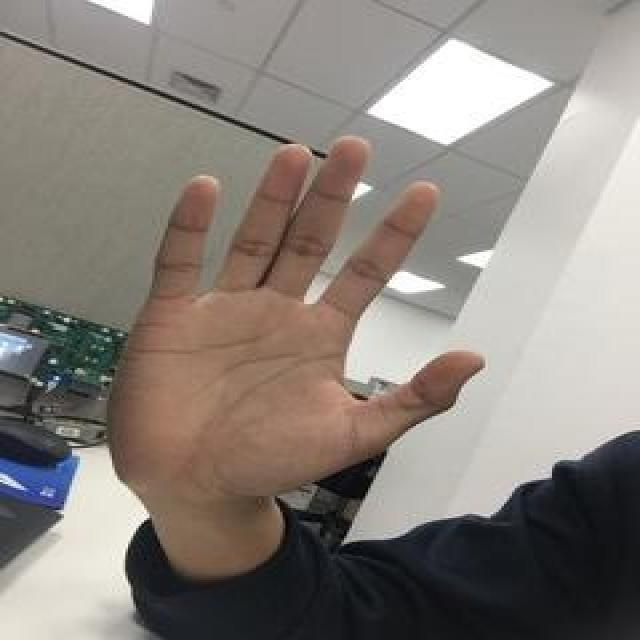hand: (99, 134, 489, 514)
